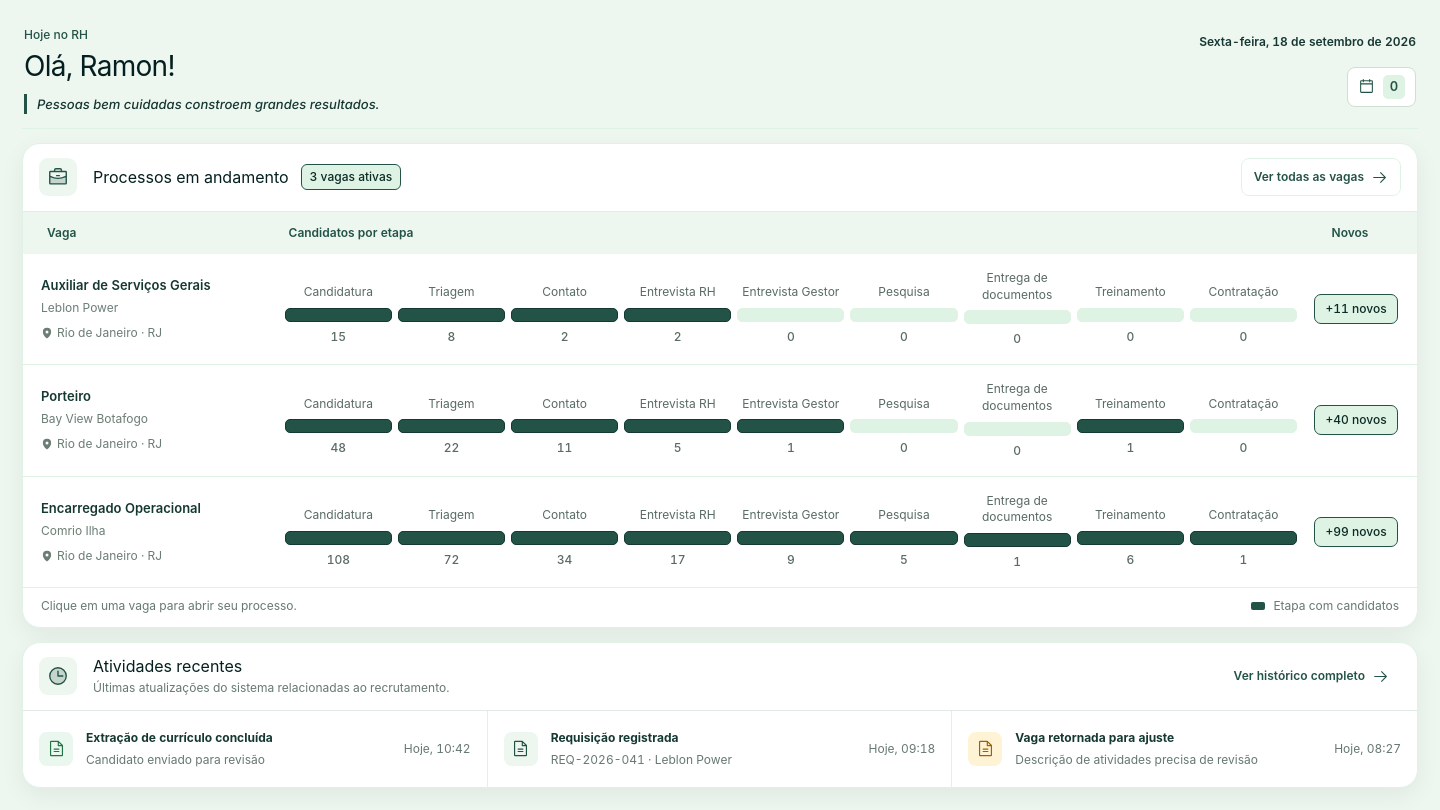
Test: handles an empty day inside the agenda dialog
Click the button named "Agenda de hoje 0": (1382, 87) [1347,67,1416,107]
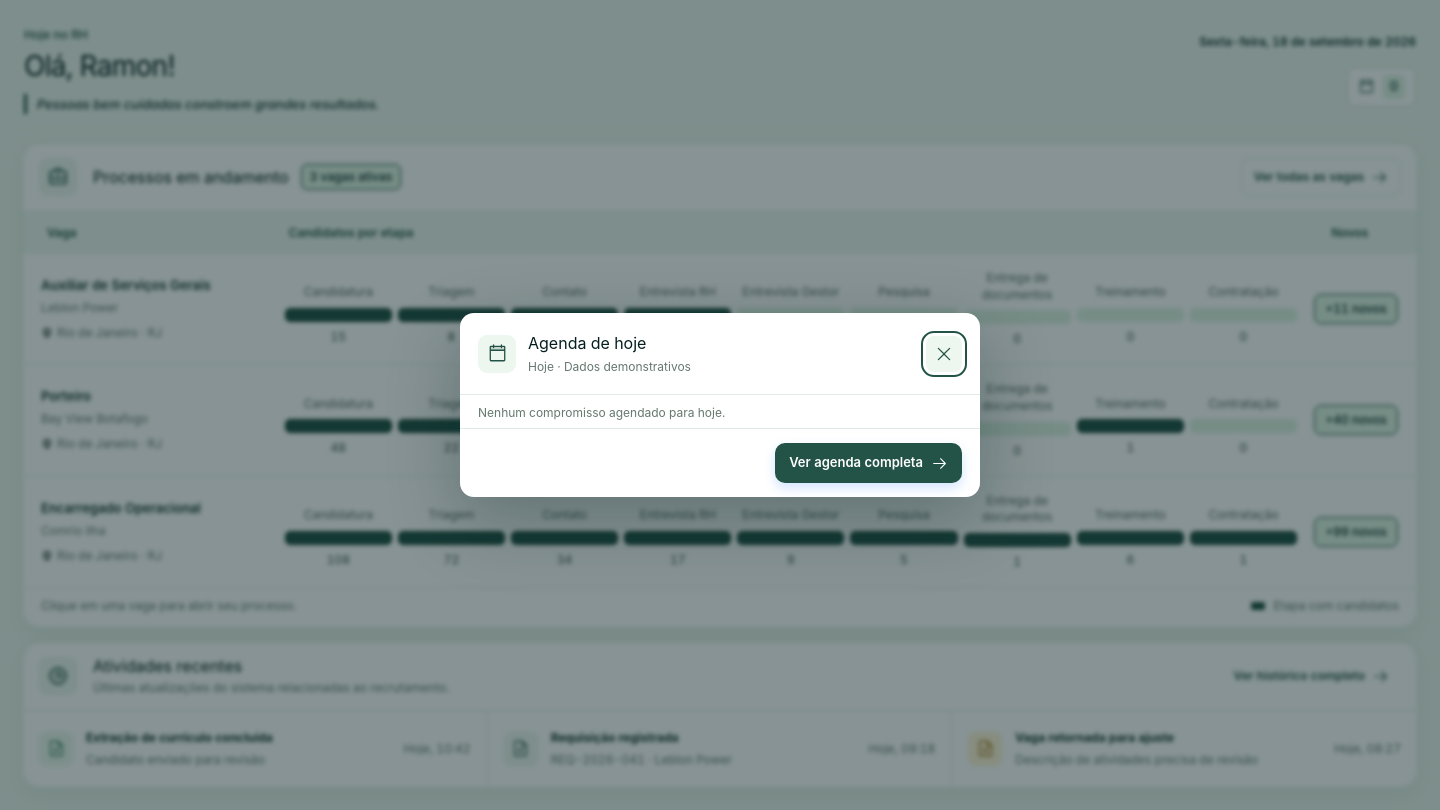
Check: the text "Nenhum compromisso agendado para hoje." is shown, box [478,405,725,420]
